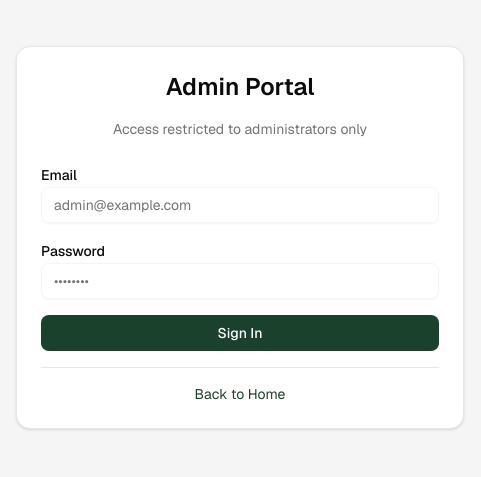
AdminLoginPage › Test Case 2: Restricts access to non-admin users by signing out › should sign out non-admin users and display error message
In the field with placeholder "admin@example.com": (240, 204) [41,186,439,222], type "user@example.com"
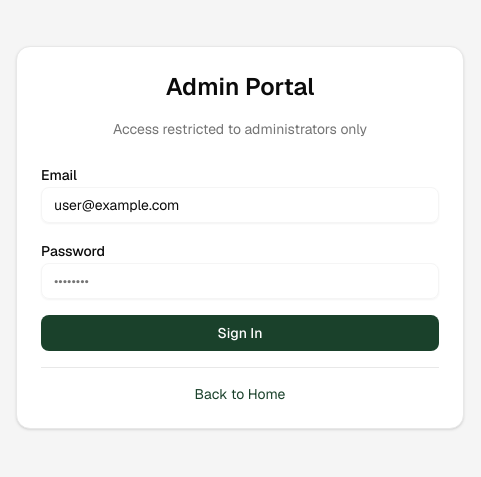
In the password field with placeholder "••••••••": (240, 280) [41,262,439,298], type "password123"
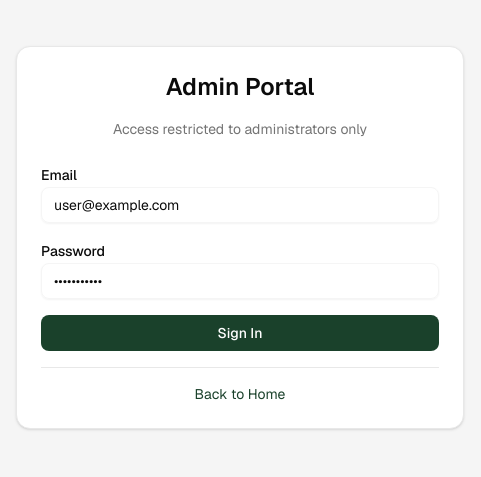
Click the button "Sign In": (240, 332) [41,314,439,350]
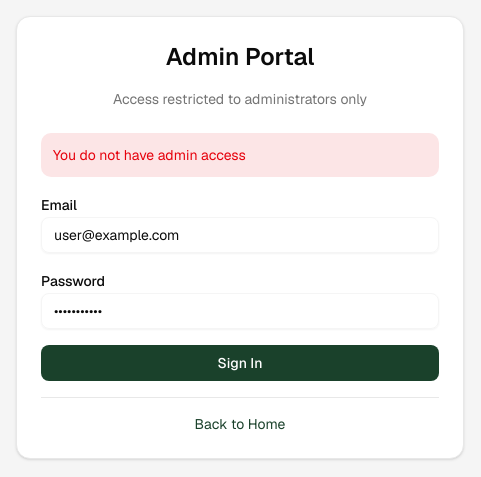
Expected: the text "You do not have admin access" is shown, [41,132,439,176]
